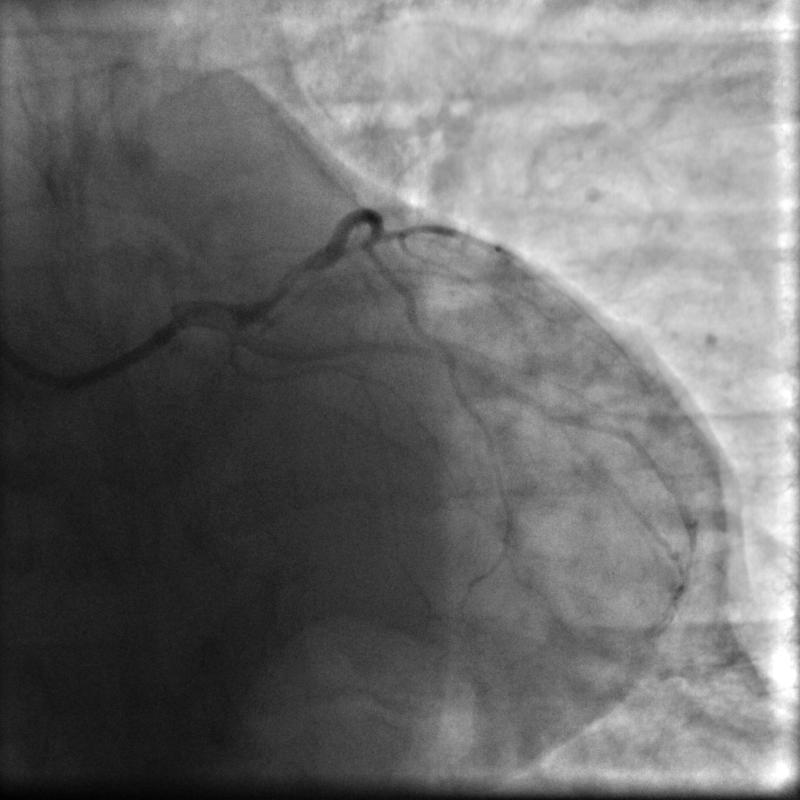Stenosis: (251, 261, 325, 304)
